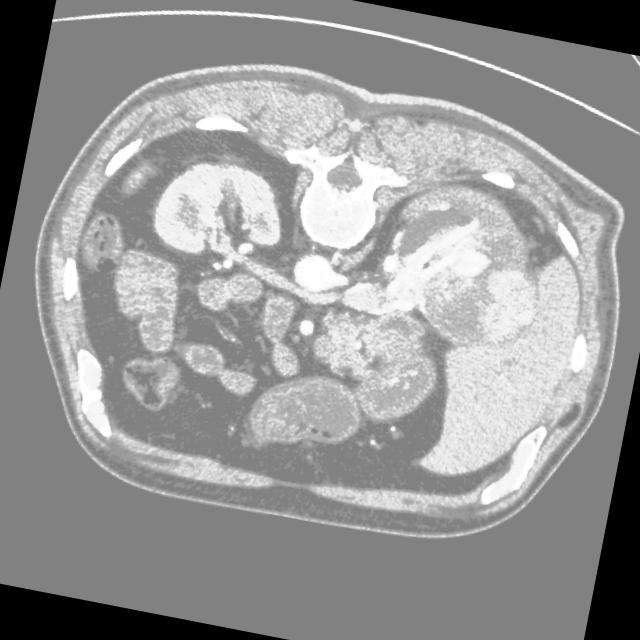TUMOR: (123, 137, 577, 379)
